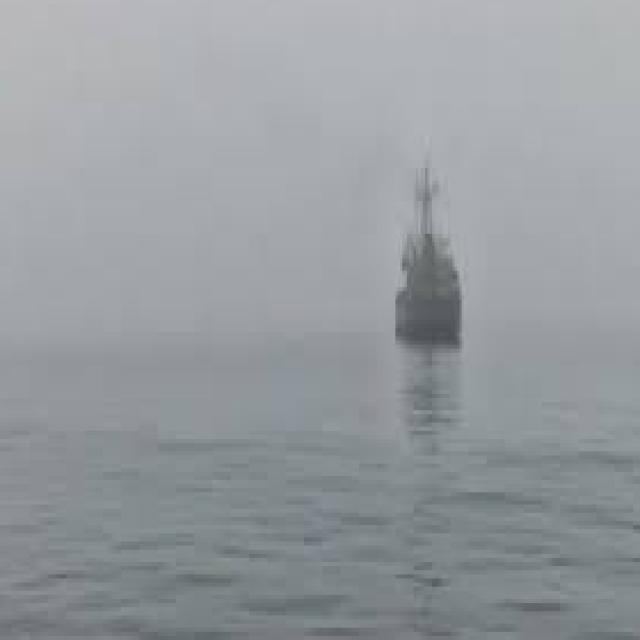navalvessels: (380, 169, 472, 370)
